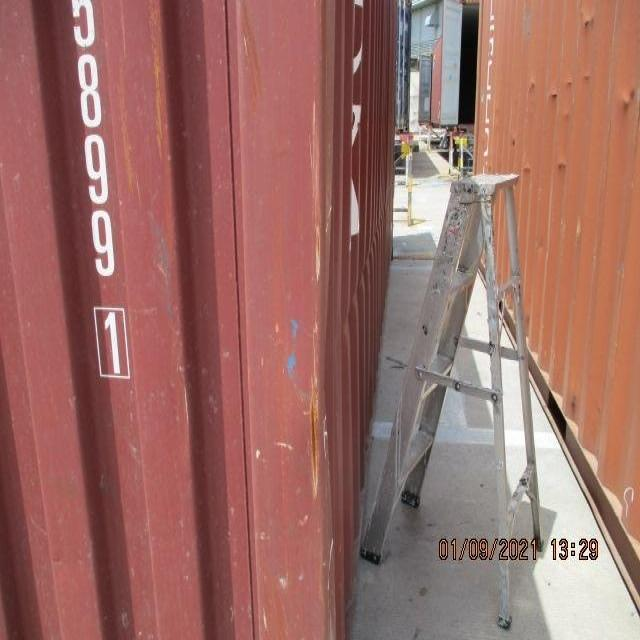dent: (341, 206, 380, 353)
